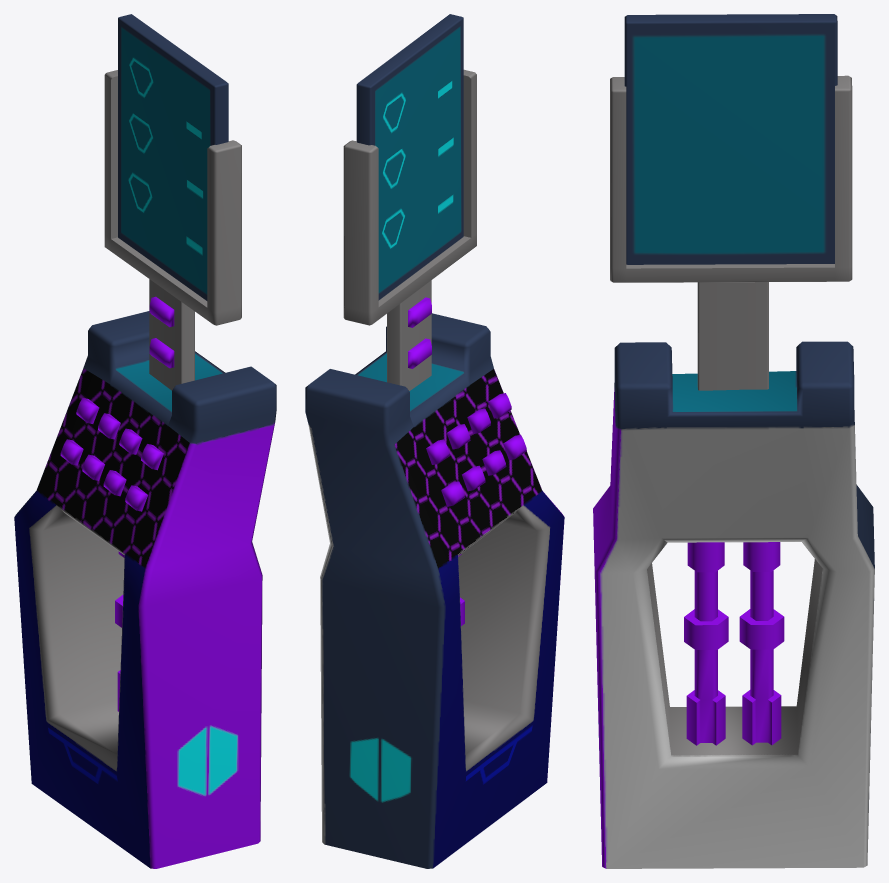
Rendered from SM_Props_05.fbx.
3 renders of one model, left to right at view 1: azimuth 30°, elevation 25°; view 2: azimuth 150°, elevation 25°; view 3: azimuth 270°, elevation 25°, orthographic. The views are drawn at different scales.
Visible parts, largest first — view 1: SM_Props_05; view 2: SM_Props_05; view 3: SM_Props_05.
Part boxes in pixels (x1=…): SM_Props_05: x1=14, y1=14, x2=276, y2=868; SM_Props_05: x1=305, y1=14, x2=564, y2=868; SM_Props_05: x1=593, y1=14, x2=874, y2=868.
Size of the model in its own units: 33.49 by 49.17 by 161.
Materials: 1 (1 with a texture image).
